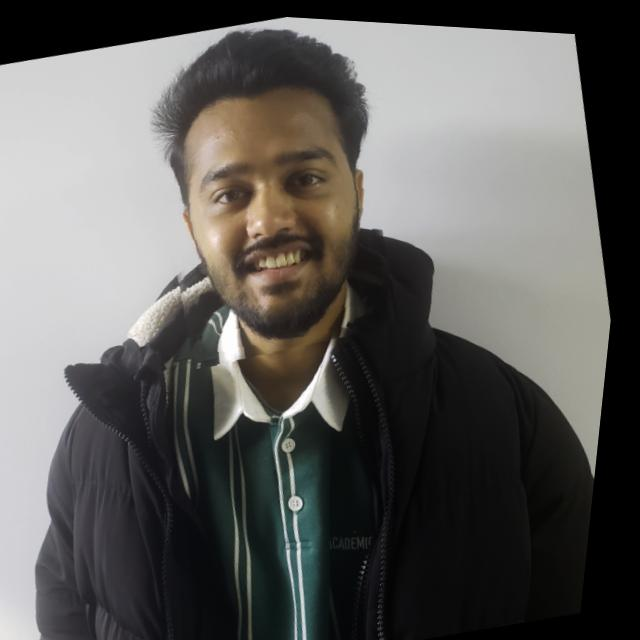happy: (114, 7, 427, 375)
